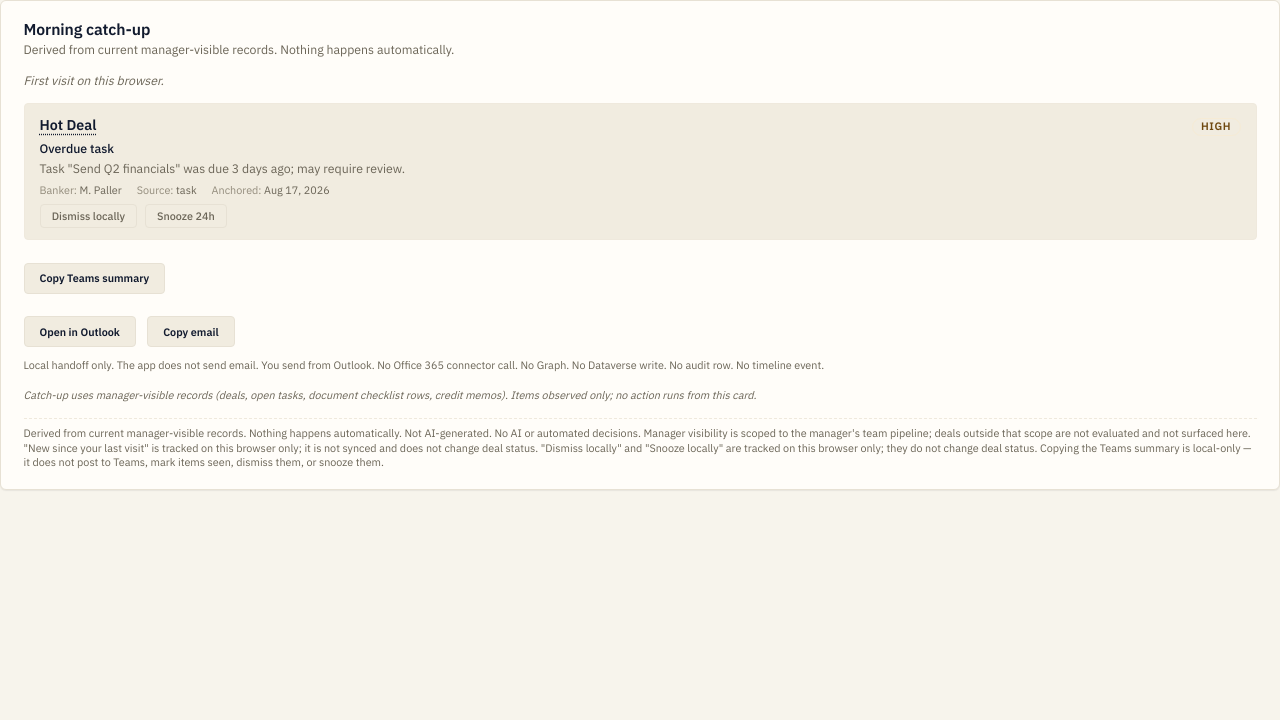
Test: ManagerMorningCatchUp — Phase 88 › Phase 91 — local catch-up item ledger › clicking Snooze 24h hides the item from the visible feed
Click the button with aria-label "Snooze catch-up item for Hot Deal 24 hours locally" at [186, 216], box [145,204,227,228]
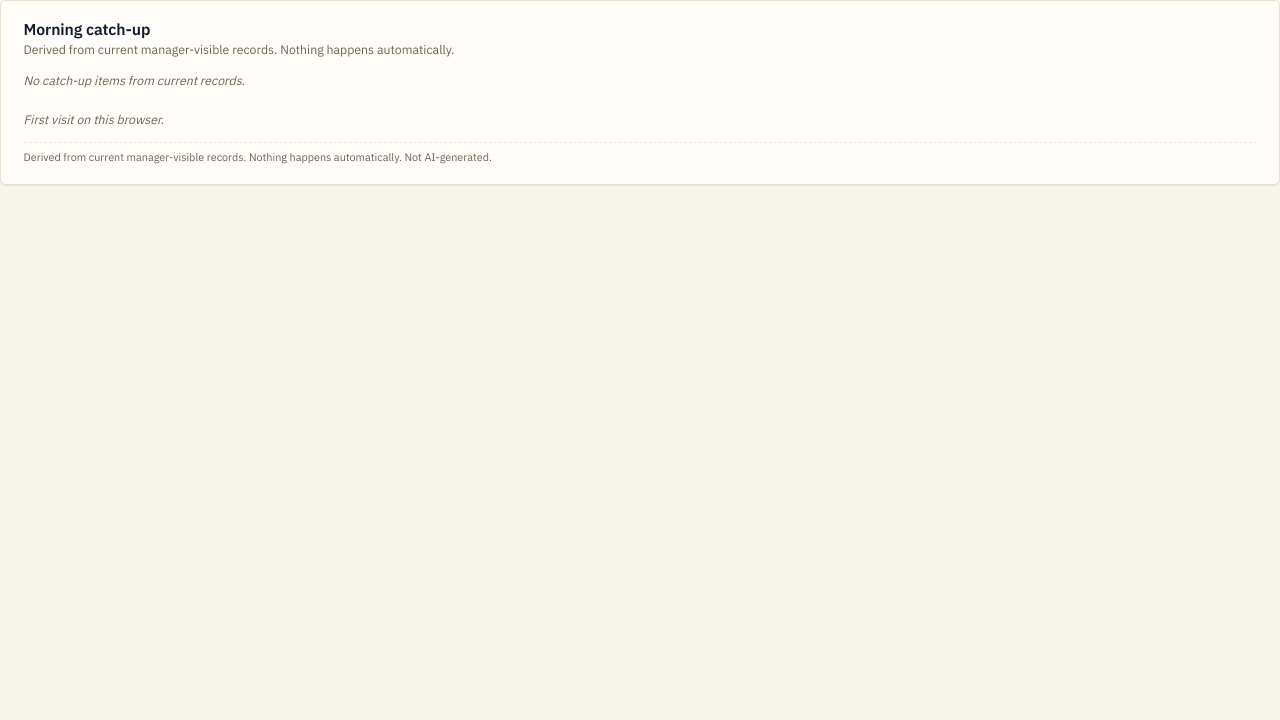
Check: the text "No catch-up items from current records." is shown, box [24,72,245,88]
